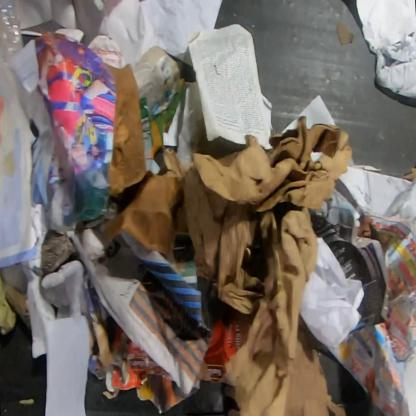cardboard: (161, 116, 354, 415), (102, 62, 183, 257)
soft_plastic: (0, 0, 24, 62)
